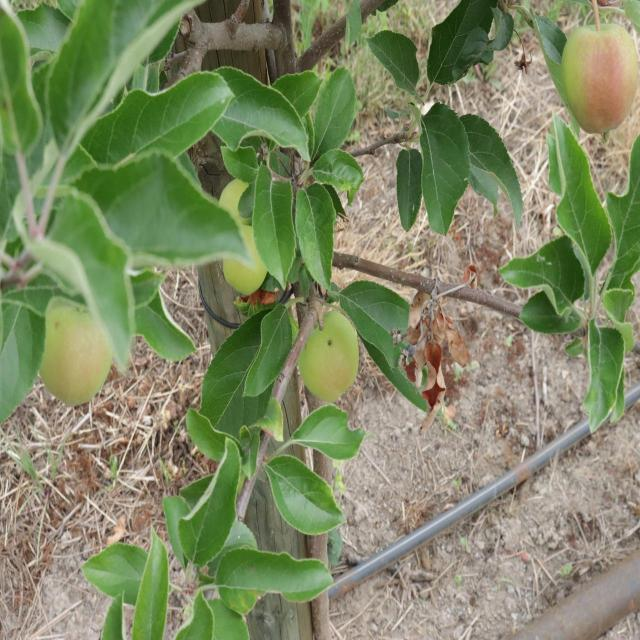-FireBlight-: (392, 289, 465, 419)
